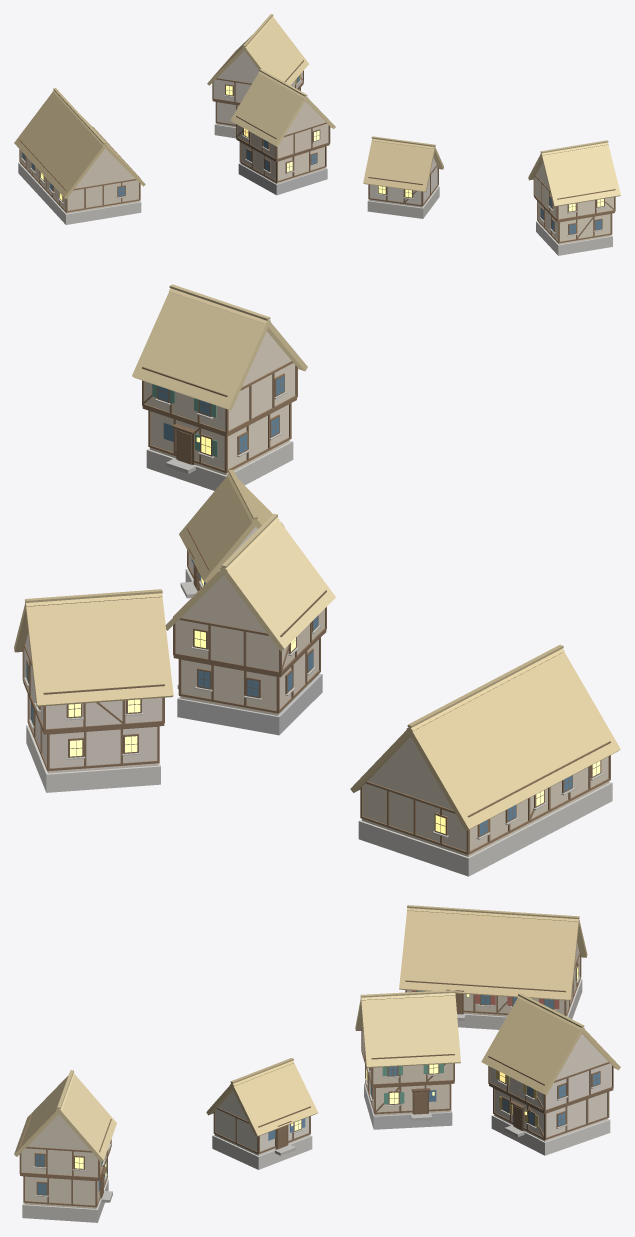
Rendered from struct_12_8.glb.
The picture shows the model from 3 angles, top to bottom: view 1: azimuth 30°, elevation 25°; view 2: azimuth 150°, elevation 25°; view 3: azimuth 270°, elevation 25°; orthographic projection. The views are drawn at different scales.
Parts seen in each view (by area): view 1: HousesNear; view 2: HousesNear; view 3: HousesNear.
Boxes of the visible parts, box(x1,y1,x2,y2) form: HousesNear: box(14, 14, 620, 255); HousesNear: box(14, 284, 620, 876); HousesNear: box(14, 905, 620, 1222).
Size of the model in its own units: 50.85 by 11.61 by 52.79.
